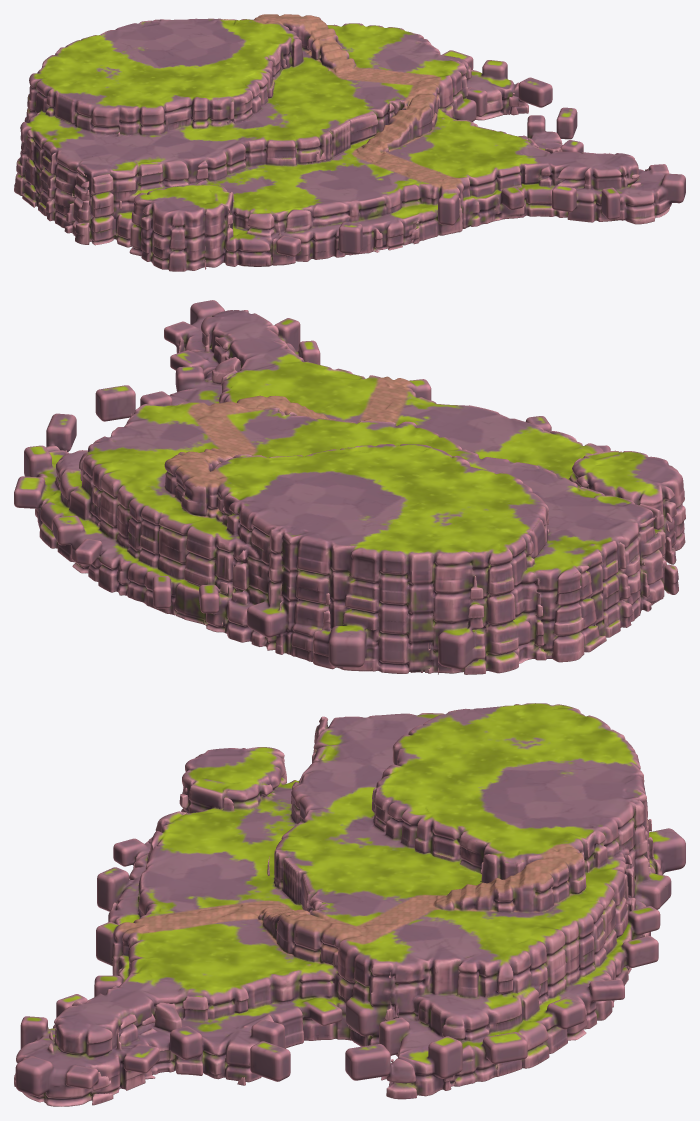
The model's file is foundation.glb.
3 renders of one model, top to bottom at view 1: azimuth 30°, elevation 25°; view 2: azimuth 150°, elevation 25°; view 3: azimuth 270°, elevation 25°, orthographic. The views are drawn at different scales.
Visible parts, largest first — view 1: terrain-foundation; view 2: terrain-foundation; view 3: terrain-foundation.
Boxes of the visible parts, x1,y1,x2,y2 form: terrain-foundation: (14, 14, 685, 271); terrain-foundation: (14, 300, 685, 674); terrain-foundation: (14, 703, 685, 1106).
Bounding box in the file's own units: 47.67 × 8.51 × 42.46.
Materials: 1 (1 with a texture image).
